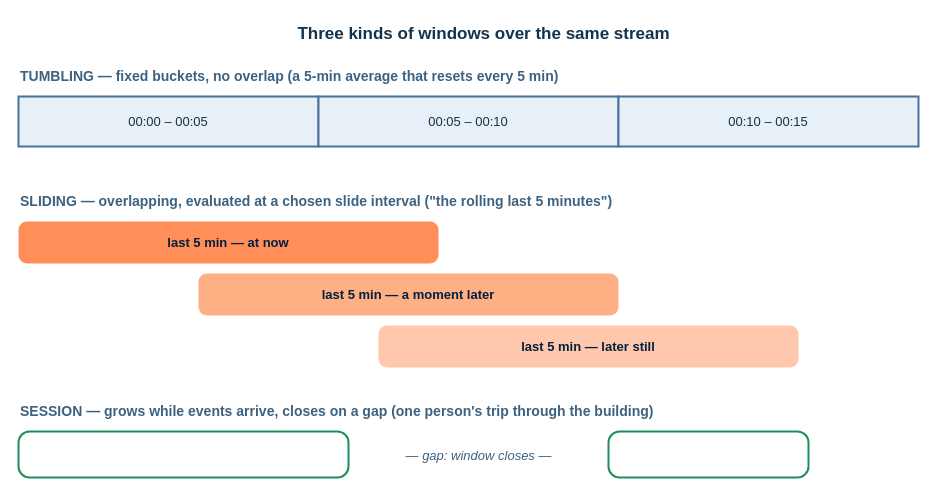
Some shapes in this 936 by 495 pixel diagram are drawn without their labels. Each missing label, with the centre of its shape:
"event event" goes at (708,454).
"event event event event" goes at (183,454).
